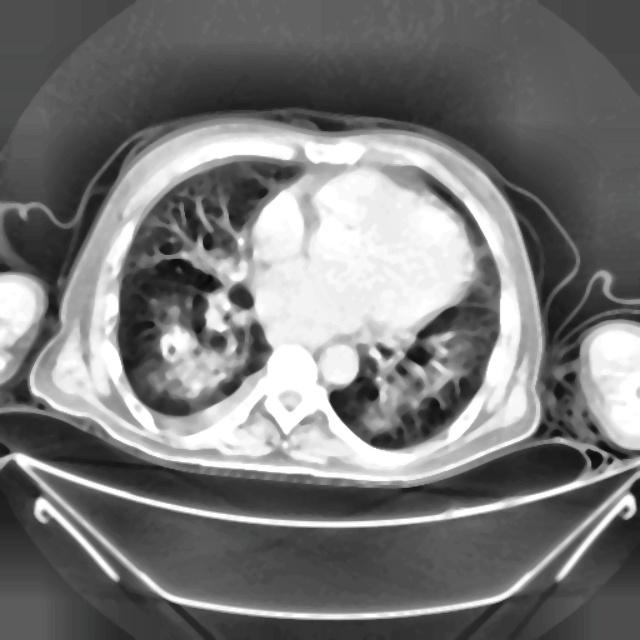covid: (27, 108, 548, 486)
